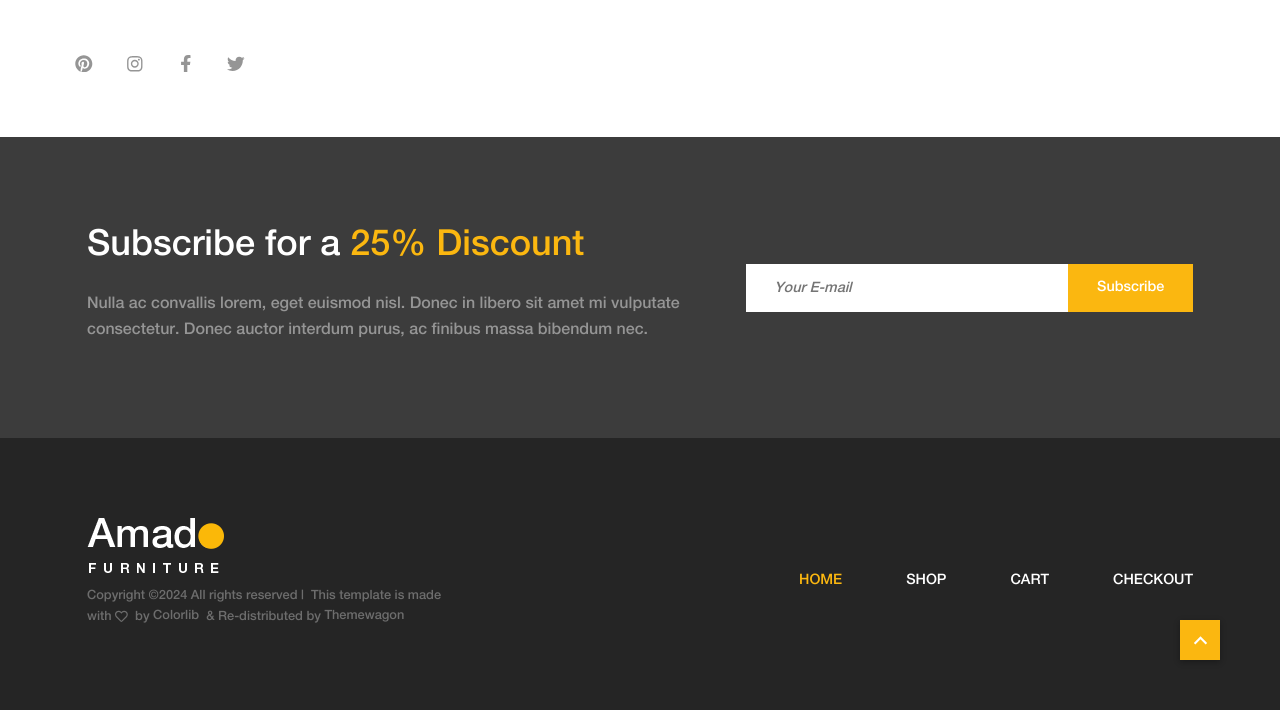
Test case: Footer spec › Should navigate to the cart page if the cart link is clicked
(page scrolled)
Hover over the link "cart" at (1030, 580), box [1010, 572, 1049, 587]
Click the link "cart". click: (1030, 580)
box: [1010, 572, 1049, 587]
(page scrolled)
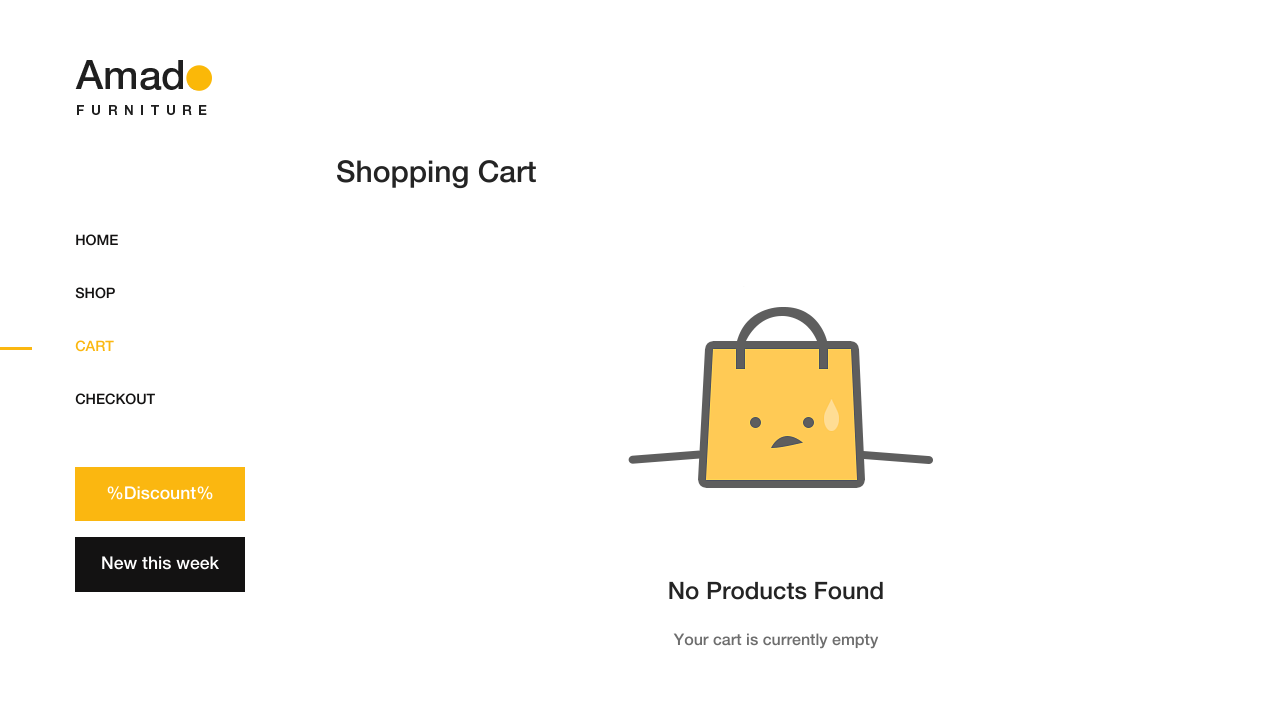
expect the heading "shopping cart" is shown: met, box [336, 158, 536, 189]
